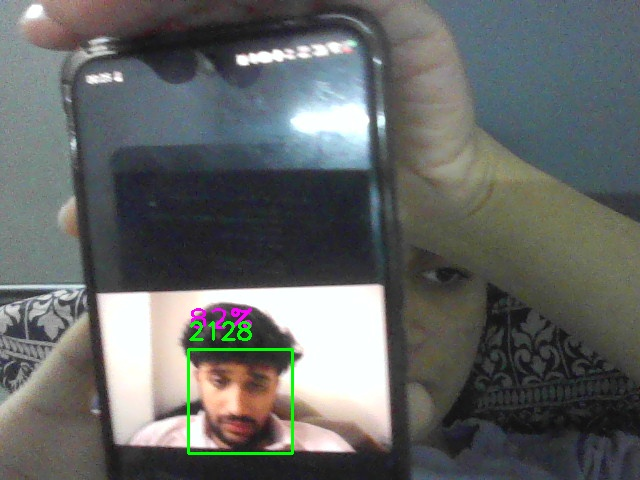fake: (188, 349, 293, 454)
